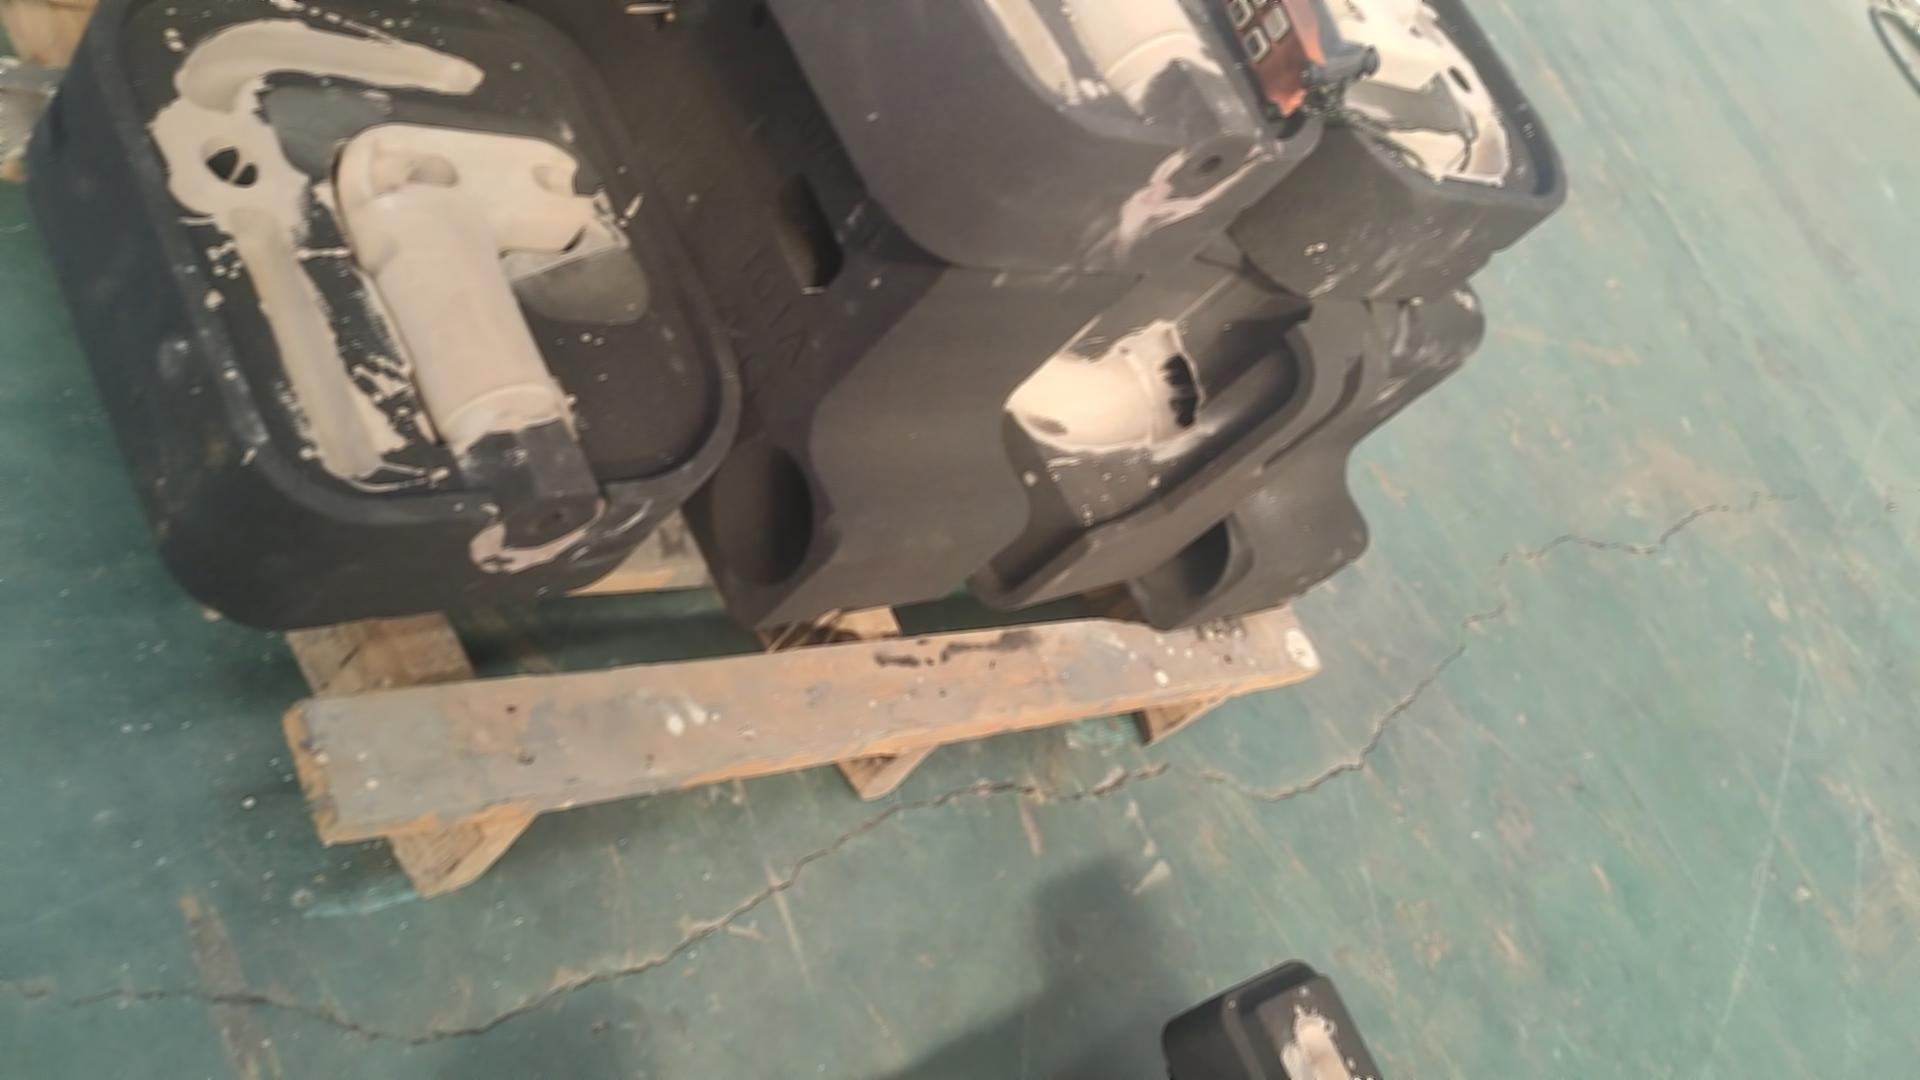pouring hole: (712, 439, 812, 589), (1127, 483, 1230, 603)
